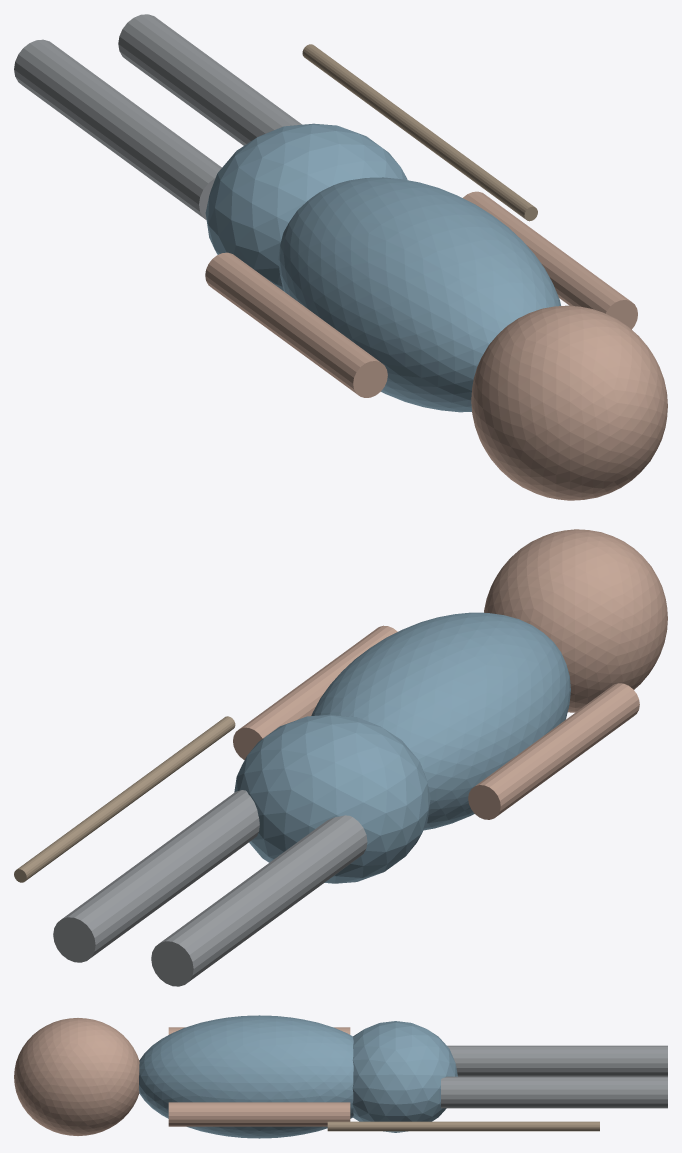
File: older-high.glb
The picture shows the model from 3 angles, top to bottom: view 1: azimuth 30°, elevation 25°; view 2: azimuth 150°, elevation 25°; view 3: azimuth 270°, elevation 25°; orthographic projection. The views are drawn at different scales.
Visible parts, largest first — view 1: torso, head, pelvis, left_leg, right_leg, left_arm, right_arm, cane; view 2: torso, pelvis, head, left_leg, right_leg, left_arm, cane, right_arm; view 3: torso, head, pelvis, right_leg, left_leg, right_arm, cane.
Boxes of the visible parts, bbox=[...] form: torso: bbox=[278, 177, 560, 412]; head: bbox=[471, 305, 667, 500]; pelvis: bbox=[205, 123, 407, 290]; left_leg: bbox=[14, 39, 221, 219]; right_leg: bbox=[118, 14, 301, 145]; left_arm: bbox=[205, 252, 387, 397]; right_arm: bbox=[463, 191, 637, 329]; cane: bbox=[302, 44, 537, 221]; torso: bbox=[311, 612, 570, 830]; pelvis: bbox=[234, 714, 430, 883]; head: bbox=[484, 529, 667, 712]; left_leg: bbox=[151, 815, 367, 986]; right_leg: bbox=[53, 790, 259, 962]; left_arm: bbox=[468, 683, 639, 819]; cane: bbox=[14, 716, 235, 882]; right_arm: bbox=[233, 625, 397, 759]; torso: bbox=[139, 1015, 353, 1138]; head: bbox=[14, 1018, 139, 1135]; pelvis: bbox=[352, 1021, 457, 1132]; right_leg: bbox=[441, 1076, 667, 1108]; left_leg: bbox=[447, 1045, 667, 1076]; right_arm: bbox=[168, 1102, 350, 1126]; cane: bbox=[327, 1121, 599, 1131].
Size of the model in its own units: 1.16 by 0.616 by 3.4.
